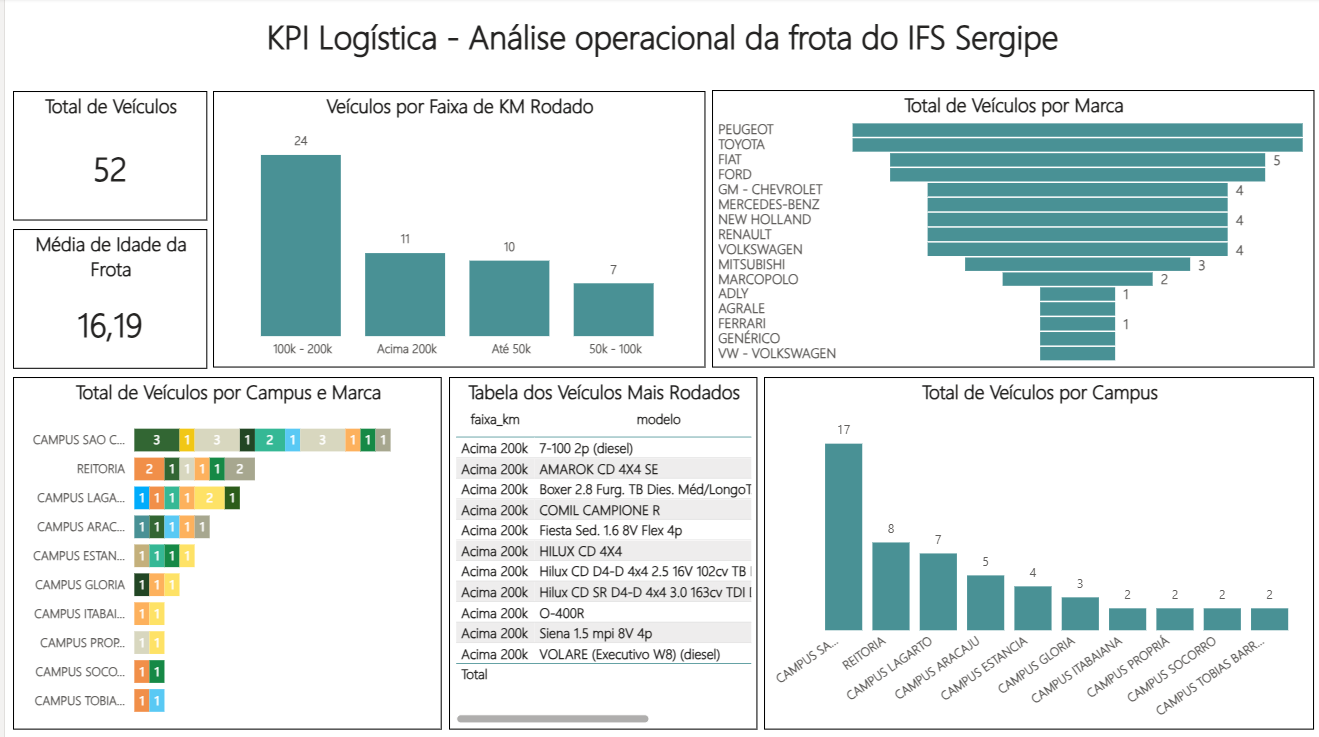

The dashboard page shown, as its layout file describes it:
{"tool":"powerbi","page":{"name":"KPI","canvas":[1280,720],"ordinal":0},"visuals":[{"type":"card","title":"Total de Veículos","fields":{"Values":["Count(frota.placa)"]},"box":[7.8,90.5,188.7,126.4],"z":0},{"type":"columnChart","title":"Total de Veículos por Campus","fields":{"Category":["frota.campus"],"Y":["CountNonNull(frota.placa)"]},"box":[738.2,368.6,535,343.3],"z":1000},{"type":"funnel","title":"Total de Veículos por Marca","fields":{"Category":["frota.marca"],"Y":["Count(frota.placa)"]},"box":[687.7,89.5,585.5,270.4],"z":2000},{"type":"card","title":"Média de Idade da Frota","fields":{"Values":["Avg(frota.idade_frota)"]},"box":[7.8,224.7,188.7,136.2],"z":3000},{"type":"pivotTable","title":"Total de Veículos por Campus e Marca","fields":{"Rows":["frota.campus","frota.marca"],"Values":["CountNonNull(frota.placa)"]},"box":[7.8,368.6,417.3,343.3],"z":4000},{"type":"waterfallChart","title":"Veículos por Faixa de KM Rodado","fields":{"Category":["frota.faixa_km"],"Y":["CountNonNull(frota.placa)"]},"box":[202.3,90.5,478.5,269.4],"z":5000},{"type":"textbox","box":[210,10,859,67],"z":6000},{"type":"treemap","title":"Tabela dos Veículos Mais Rodados","fields":{"Group":["frota.faixa_km"],"Values":["CountNonNull(frota.placa)"],"Details":["frota.modelo"]},"box":[431.9,368.6,299.6,343.3],"z":7000}]}

Visuals, with their boxes in screenshot pixels (x1, y1, x2, y2), scaled from the page's 1280x720 canvas onto the 1319x737 screenshot:
"Total de Veículos" card: l=8, t=93, r=202, b=222
"Total de Veículos por Campus" columnChart: l=761, t=377, r=1312, b=729
"Total de Veículos por Marca" funnel: l=709, t=92, r=1312, b=368
"Média de Idade da Frota" card: l=8, t=230, r=202, b=369
"Total de Veículos por Campus e Marca" pivotTable: l=8, t=377, r=438, b=729
"Veículos por Faixa de KM Rodado" waterfallChart: l=208, t=93, r=702, b=368
textbox: l=216, t=10, r=1102, b=79
"Tabela dos Veículos Mais Rodados" treemap: l=445, t=377, r=754, b=729
